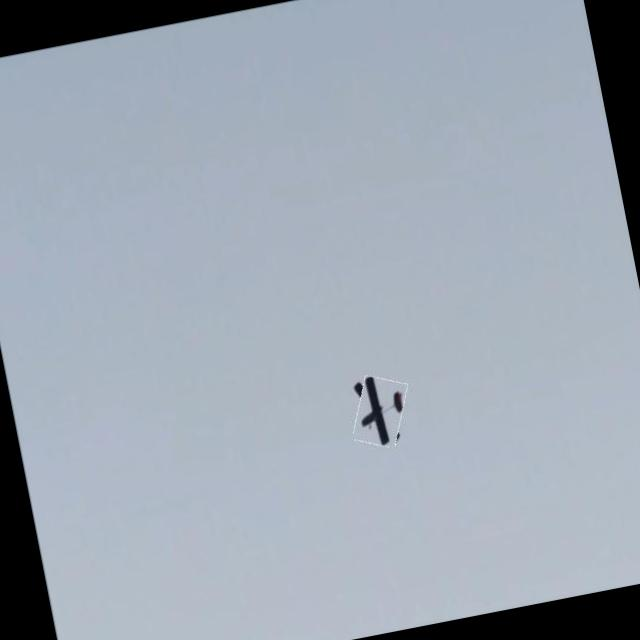UAV: (318, 352, 418, 475)
